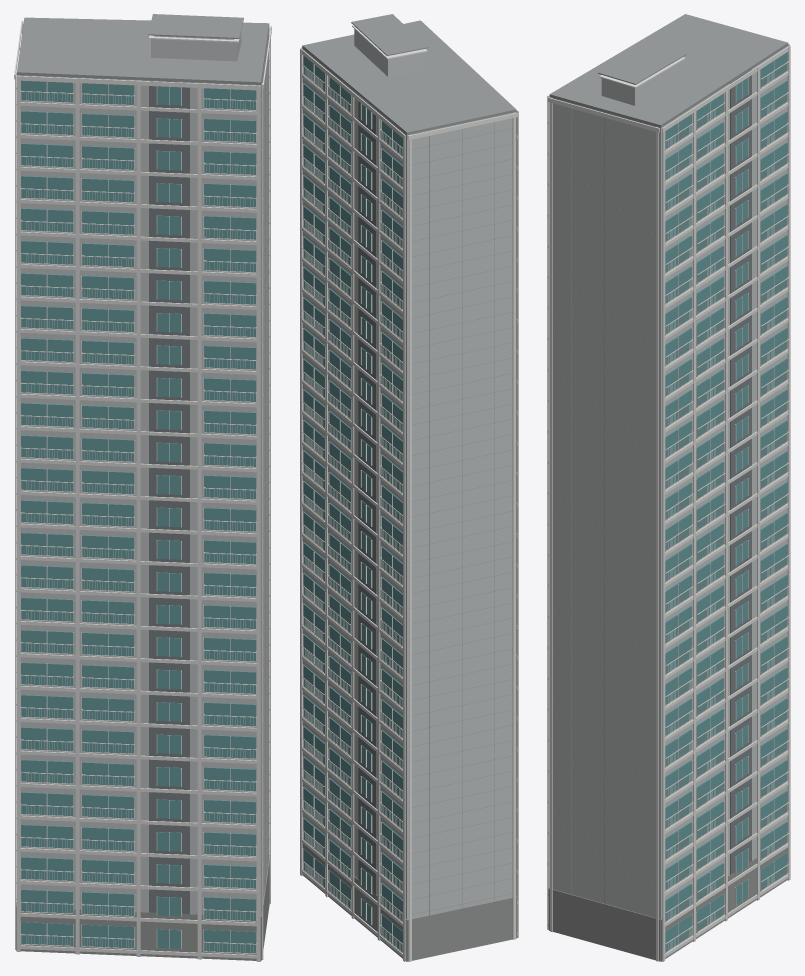
File: bespoke-jamsil-ricenz-205.glb
The picture shows the model from 3 angles, left to right: view 1: azimuth 30°, elevation 25°; view 2: azimuth 150°, elevation 25°; view 3: azimuth 270°, elevation 25°; orthographic projection. The views are drawn at different scales.
Parts seen in each view (by area): view 1: Ricenz205_editable_Ricenz205_turquoise_balcony_glazing, Ricenz205_editable_Ricenz205_light_grey_solid_wall, Ricenz205_white_exact_chunk_0, Ricenz205_white_exact_chunk_1, Ricenz205_editable_Ricenz205_narrow_charcoal_service_strips, Ricenz205_editable_Ricenz205_modest_grey_flat_roof_caps, Ricenz205_editable_Ricenz205_muted_ground_wall, Ricenz205_white_exact_chunk_2; view 2: Ricenz205_editable_Ricenz205_light_grey_solid_wall, Ricenz205_editable_Ricenz205_turquoise_balcony_glazing, Ricenz205_white_exact_chunk_2, Ricenz205_white_exact_chunk_1, Ricenz205_editable_Ricenz205_modest_grey_flat_roof_caps, Ricenz205_editable_Ricenz205_narrow_charcoal_service_strips, Ricenz205_editable_Ricenz205_muted_ground_wall; view 3: Ricenz205_editable_Ricenz205_light_grey_solid_wall, Ricenz205_editable_Ricenz205_turquoise_balcony_glazing, Ricenz205_white_exact_chunk_1, Ricenz205_white_exact_chunk_2, Ricenz205_editable_Ricenz205_modest_grey_flat_roof_caps, Ricenz205_editable_Ricenz205_narrow_charcoal_service_strips, Ricenz205_editable_Ricenz205_muted_ground_wall.
Part boxes in pixels (x1,y1,x2,y2): Ricenz205_editable_Ricenz205_turquoise_balcony_glazing: [20, 80, 256, 953]; Ricenz205_editable_Ricenz205_light_grey_solid_wall: [16, 26, 269, 916]; Ricenz205_white_exact_chunk_0: [20, 81, 256, 958]; Ricenz205_white_exact_chunk_1: [16, 26, 271, 961]; Ricenz205_editable_Ricenz205_narrow_charcoal_service_strips: [149, 80, 189, 913]; Ricenz205_editable_Ricenz205_modest_grey_flat_roof_caps: [16, 14, 269, 911]; Ricenz205_editable_Ricenz205_muted_ground_wall: [16, 858, 269, 960]; Ricenz205_white_exact_chunk_2: [14, 20, 243, 949]; Ricenz205_editable_Ricenz205_light_grey_solid_wall: [302, 29, 516, 919]; Ricenz205_editable_Ricenz205_turquoise_balcony_glazing: [303, 55, 402, 951]; Ricenz205_white_exact_chunk_2: [300, 25, 517, 961]; Ricenz205_white_exact_chunk_1: [301, 23, 518, 937]; Ricenz205_editable_Ricenz205_modest_grey_flat_roof_caps: [302, 14, 516, 915]; Ricenz205_editable_Ricenz205_narrow_charcoal_service_strips: [358, 95, 376, 894]; Ricenz205_editable_Ricenz205_muted_ground_wall: [302, 838, 517, 961]; Ricenz205_editable_Ricenz205_light_grey_solid_wall: [549, 45, 788, 919]; Ricenz205_editable_Ricenz205_turquoise_balcony_glazing: [665, 52, 787, 951]; Ricenz205_white_exact_chunk_1: [547, 93, 757, 961]; Ricenz205_white_exact_chunk_2: [599, 44, 790, 961]; Ricenz205_editable_Ricenz205_modest_grey_flat_roof_caps: [549, 14, 788, 915]; Ricenz205_editable_Ricenz205_narrow_charcoal_service_strips: [730, 69, 751, 874]; Ricenz205_editable_Ricenz205_muted_ground_wall: [548, 842, 787, 961].
Bounding box in the file's own units: 23.35 × 82.73 × 21.22.
